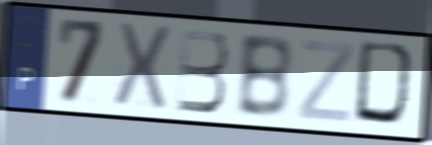7: (55, 14, 109, 107)
B: (234, 33, 295, 122), (175, 26, 231, 116)
D: (351, 38, 421, 132)
X: (110, 19, 173, 112)
Z: (295, 38, 356, 125)
